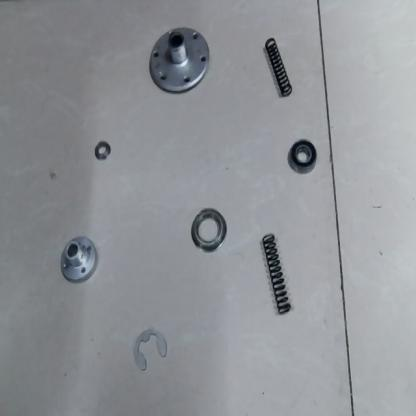FOD: (146, 22, 213, 98), (257, 229, 294, 321), (57, 233, 98, 287), (189, 208, 230, 259), (127, 328, 171, 375), (264, 34, 294, 102), (287, 136, 321, 176), (91, 137, 110, 165)
